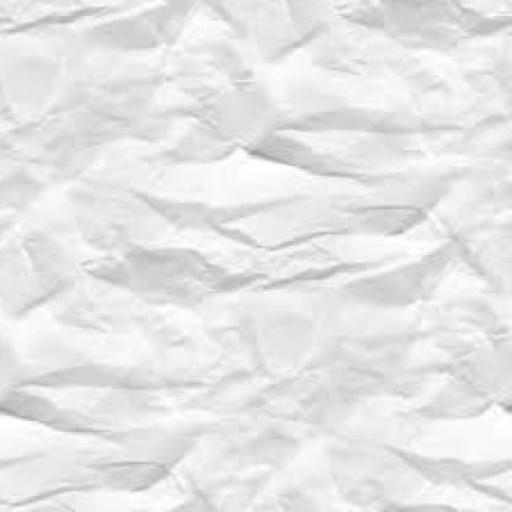paper: (2, 2, 511, 511)
